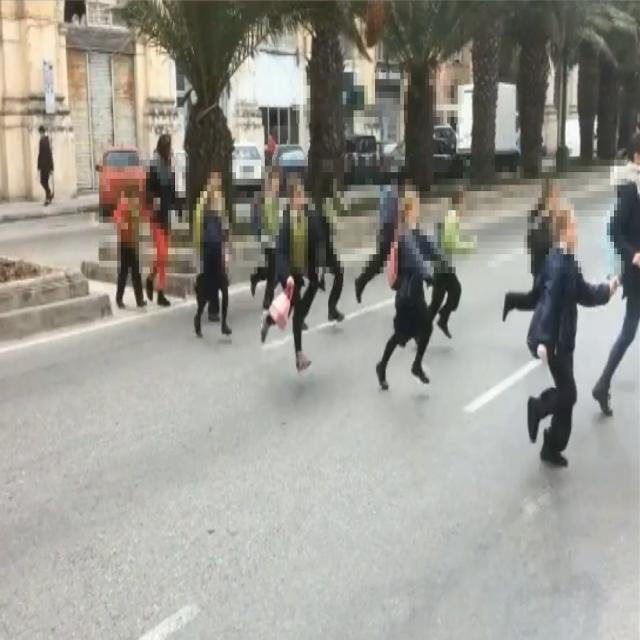body: (524, 206, 620, 467), (590, 133, 639, 420), (374, 190, 434, 394), (499, 176, 565, 361), (259, 179, 313, 377), (426, 189, 478, 341), (299, 163, 345, 331), (193, 168, 231, 340), (142, 130, 178, 310), (248, 166, 290, 312), (351, 195, 395, 302), (114, 185, 148, 312), (34, 122, 56, 210), (264, 133, 278, 163)
